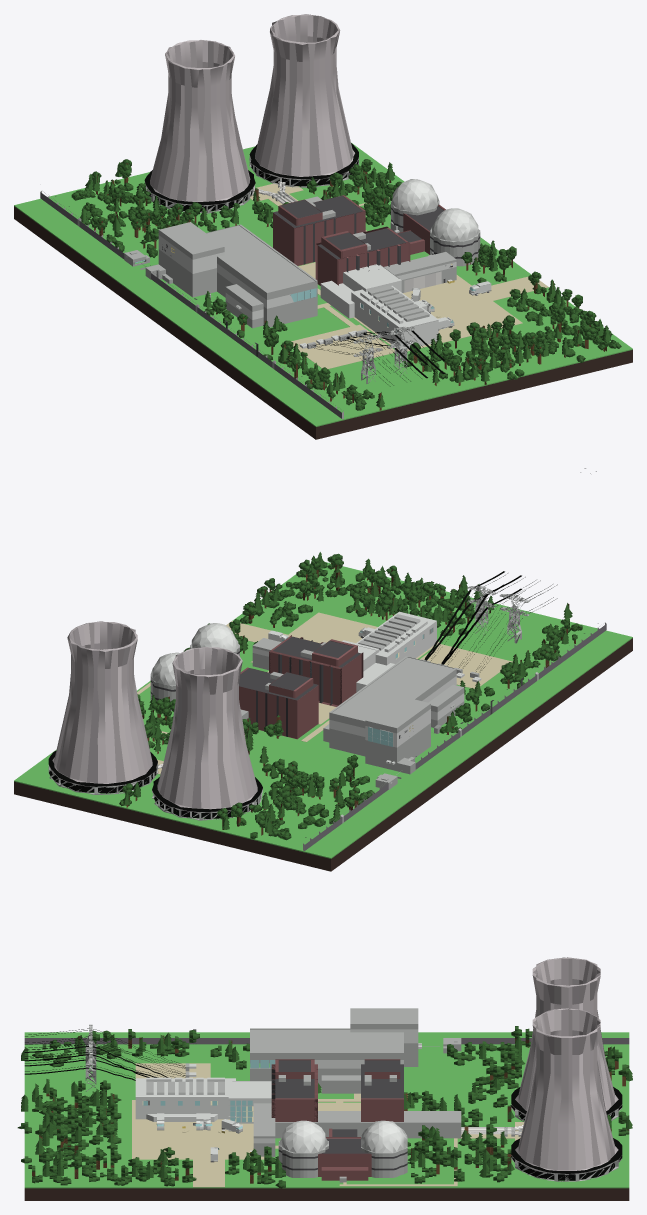
File: nuclear_powerplant_low-poly.glb
The picture shows the model from 3 angles, top to bottom: view 1: azimuth 30°, elevation 25°; view 2: azimuth 150°, elevation 25°; view 3: azimuth 270°, elevation 25°; orthographic projection.
Parts seen in each view (by area): view 1: Cube_grass_0; view 2: Cube_grass_0; view 3: Cube_grass_0, qg_windows_0.
Boxes of the visible parts, x1,y1,x2,y2 form: Cube_grass_0: (14,14,632,439); Cube_grass_0: (14,468,632,871); Cube_grass_0: (17,957,632,1200); qg_windows_0: (143,1060,275,1149).
Bounding box in the file's own units: 49.03 × 24.2 × 81.79.
2 materials, 2 textured.
